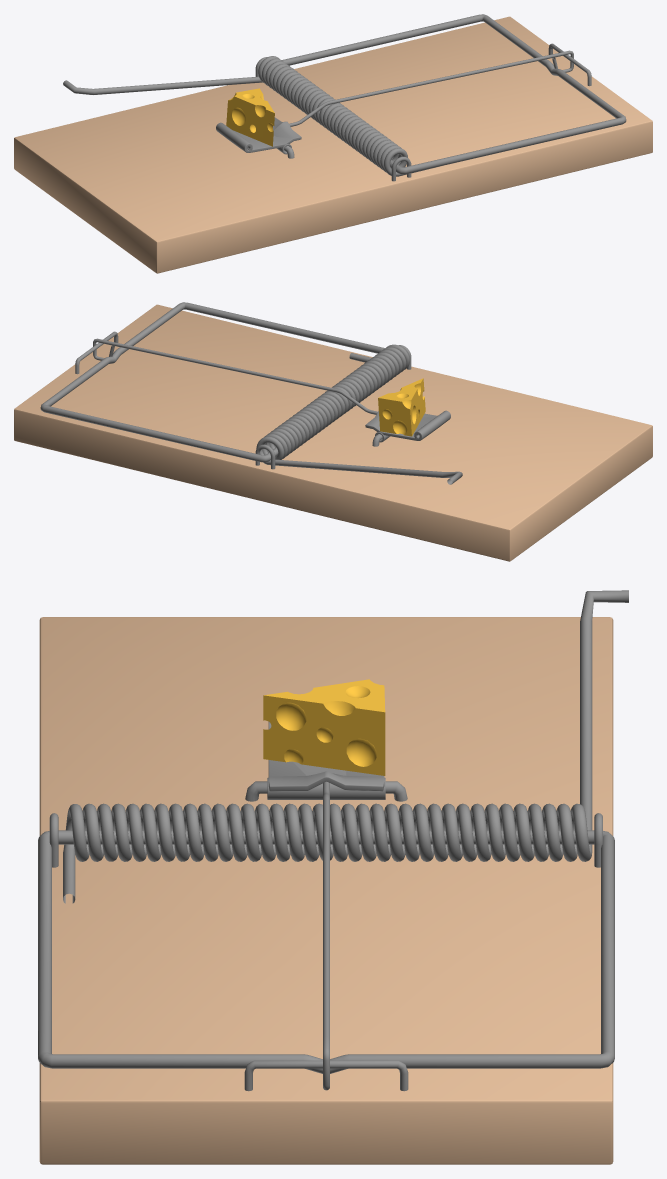
Rendered from mouse_trap.fbx.
The picture shows the model from 3 angles, top to bottom: view 1: azimuth 30°, elevation 25°; view 2: azimuth 150°, elevation 25°; view 3: azimuth 270°, elevation 25°; orthographic projection. The views are drawn at different scales.
Visible parts, largest first — view 1: wooden, Spiral_Metal_0, Plane_Metal_0, Cube_DefaultMaterial_0, Plane.002_Metal_0, Cylinder_Metal_0; view 2: wooden, Spiral_Metal_0, Plane_Metal_0, Cube_DefaultMaterial_0, Plane.002_Metal_0, Cylinder_Metal_0; view 3: wooden, Spiral_Metal_0, Plane_Metal_0, Cube_DefaultMaterial_0, Cylinder_Metal_0, Plane.002_Metal_0, Plane.001_Metal_0, Torus_Metal_0.
Boxes of the visible parts, bbox=[...] form: wooden: bbox=[14, 16, 652, 273]; Spiral_Metal_0: bbox=[63, 56, 435, 176]; Plane_Metal_0: bbox=[282, 14, 626, 174]; Cube_DefaultMaterial_0: bbox=[226, 88, 274, 146]; Plane.002_Metal_0: bbox=[289, 50, 573, 126]; Cylinder_Metal_0: bbox=[216, 117, 301, 154]; wooden: bbox=[14, 304, 652, 561]; Spiral_Metal_0: bbox=[256, 344, 462, 484]; Plane_Metal_0: bbox=[40, 302, 384, 462]; Cube_DefaultMaterial_0: bbox=[378, 378, 425, 436]; Plane.002_Metal_0: bbox=[93, 338, 377, 414]; Cylinder_Metal_0: bbox=[365, 410, 450, 442]; wooden: bbox=[39, 617, 613, 1164]; Spiral_Metal_0: bbox=[63, 590, 628, 903]; Plane_Metal_0: bbox=[38, 830, 614, 1073]; Cube_DefaultMaterial_0: bbox=[263, 679, 385, 775]; Cylinder_Metal_0: bbox=[267, 721, 385, 799]; Plane.002_Metal_0: bbox=[323, 781, 329, 1090]; Plane.001_Metal_0: bbox=[244, 1060, 408, 1091]; Torus_Metal_0: bbox=[49, 813, 602, 867].
Bounding box in the file's own units: 16 × 2.42 × 8.24.
